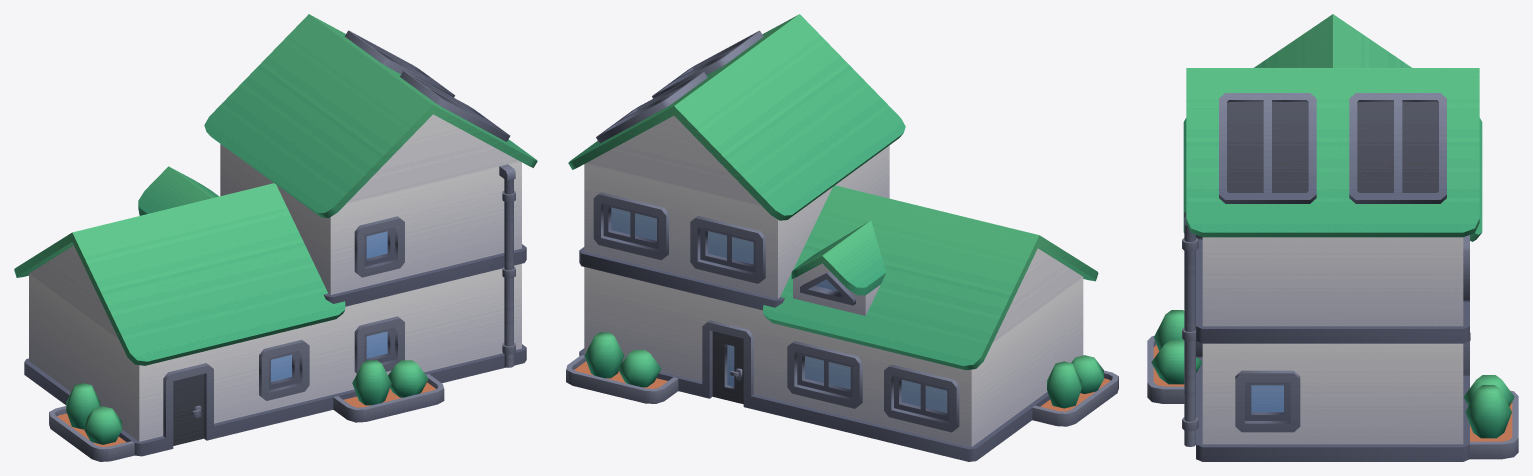
File: house_building_type_b.glb
The picture shows the model from 3 angles, left to right: view 1: azimuth 30°, elevation 25°; view 2: azimuth 150°, elevation 25°; view 3: azimuth 270°, elevation 25°; orthographic projection. The views are drawn at different scales.
Visible parts, largest first — view 1: building-type-b; view 2: building-type-b; view 3: building-type-b.
Boxes of the visible parts, left/top/right/bottom form: building-type-b: left=14, top=14, right=537, bottom=461; building-type-b: left=566, top=14, right=1118, bottom=461; building-type-b: left=1147, top=14, right=1518, bottom=461.
Size of the model in its own units: 10.97 by 6.83 by 6.84.
1 material, 1 textured.
